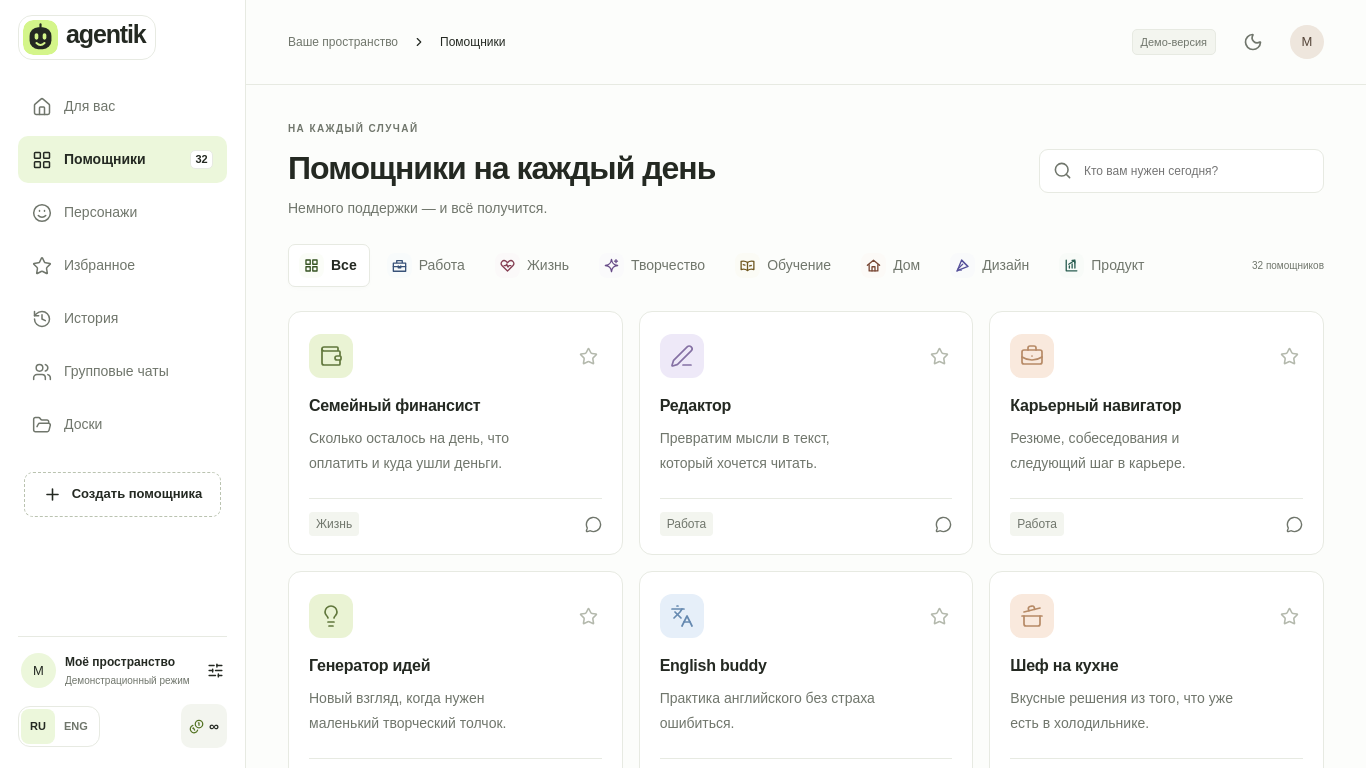
Test: searches assistants and explains empty results
The image size is (1366, 768).
Type "резюме" into the search field.
click(1196, 171); type("резюме")  # box [1082,161,1310,181]
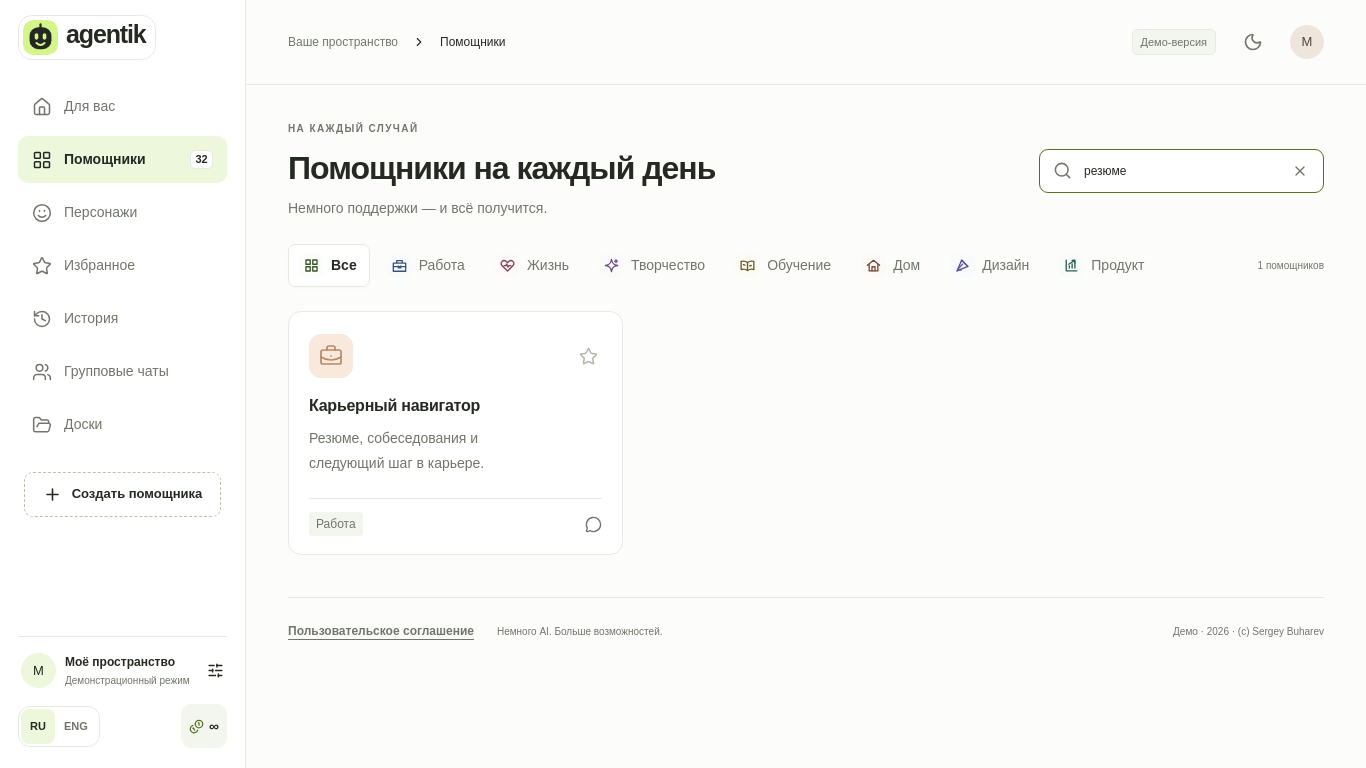
Expected: the heading "Карьерный навигатор" is shown, [309,397,480,414]
Expected: the link "Шеф на кухне" is gone
Clear the search field at [1179, 171], box [1082,161,1276,181]
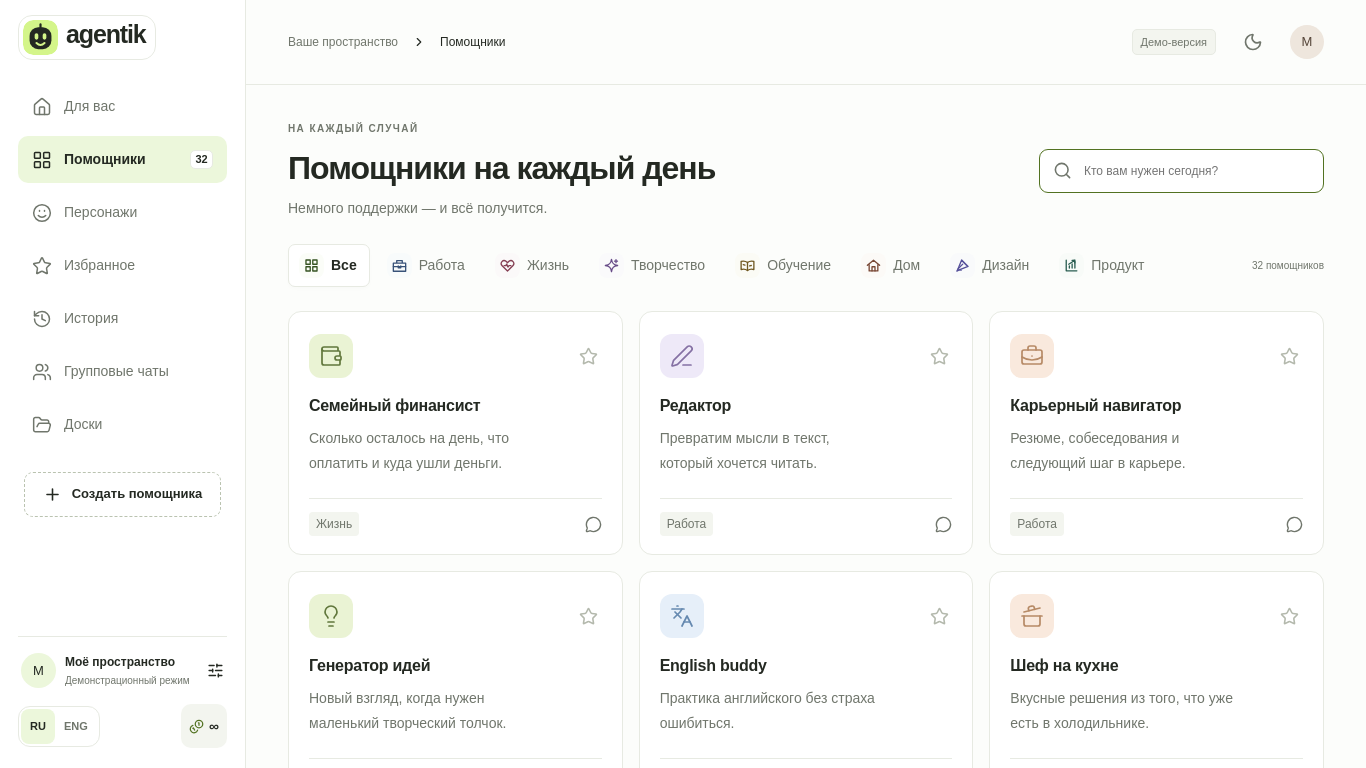
Type "несуществующийзапрос" into the search field.
click(1196, 171); type("несуществующийзапрос")  # box [1082,161,1310,181]
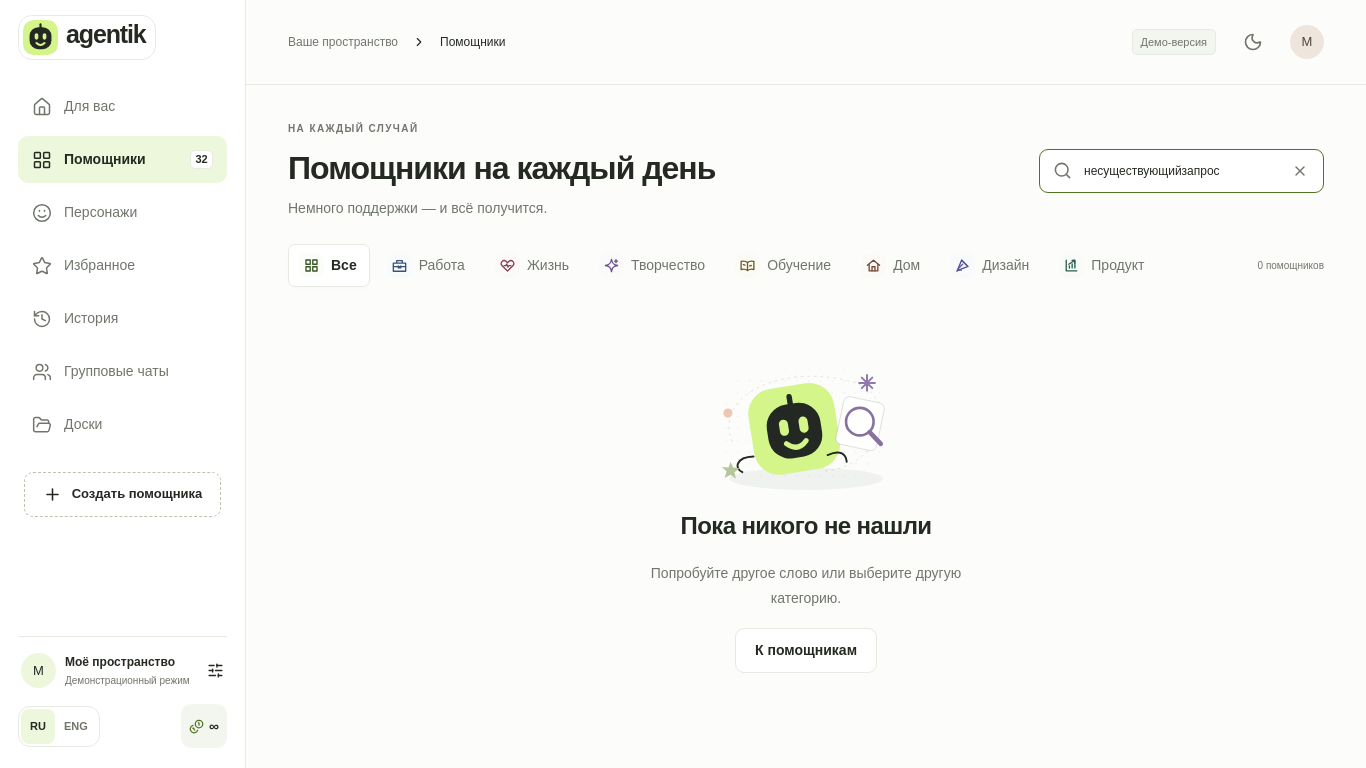
Expected: the heading "Пока никого не нашли" is shown, [680,508,931,544]
